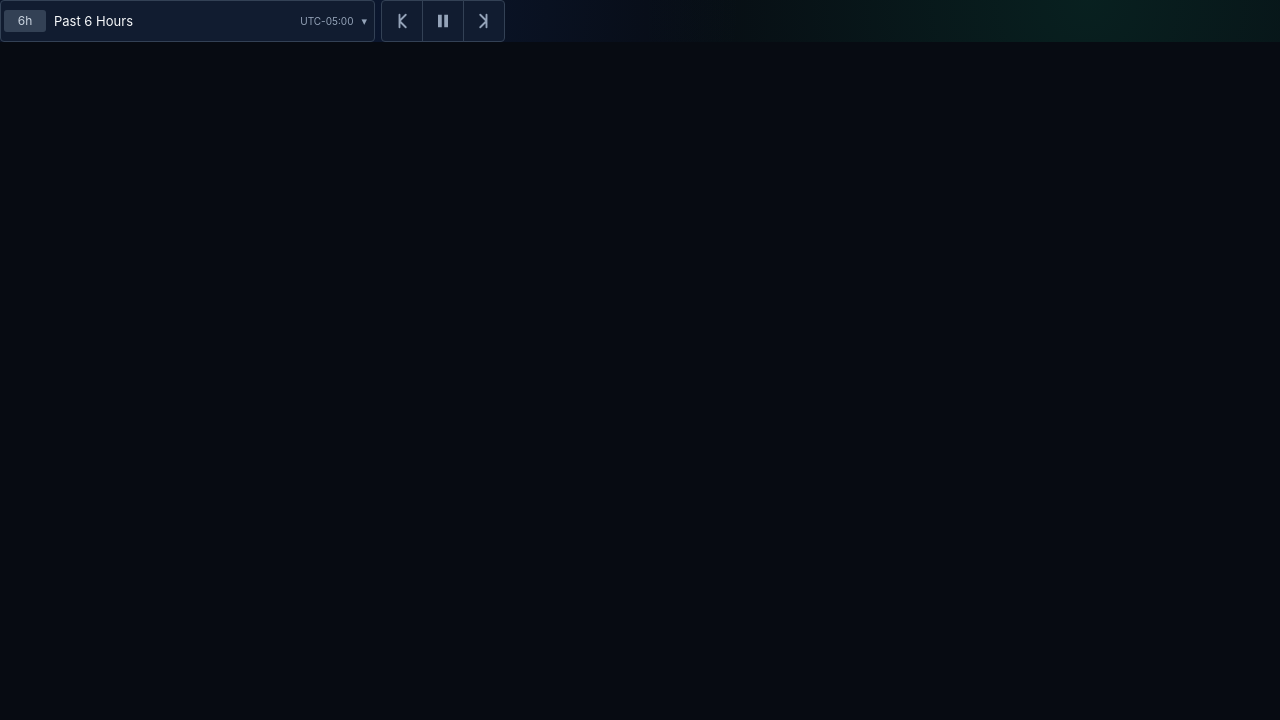
Test: DRUIDS-conformant controlled TimeRangePicker › TR-UI-013 restores input focus on Escape and outside dismissal
The image size is (1280, 720).
Click the dropdown named "Time range picker": (173, 21) [46,1,300,41]
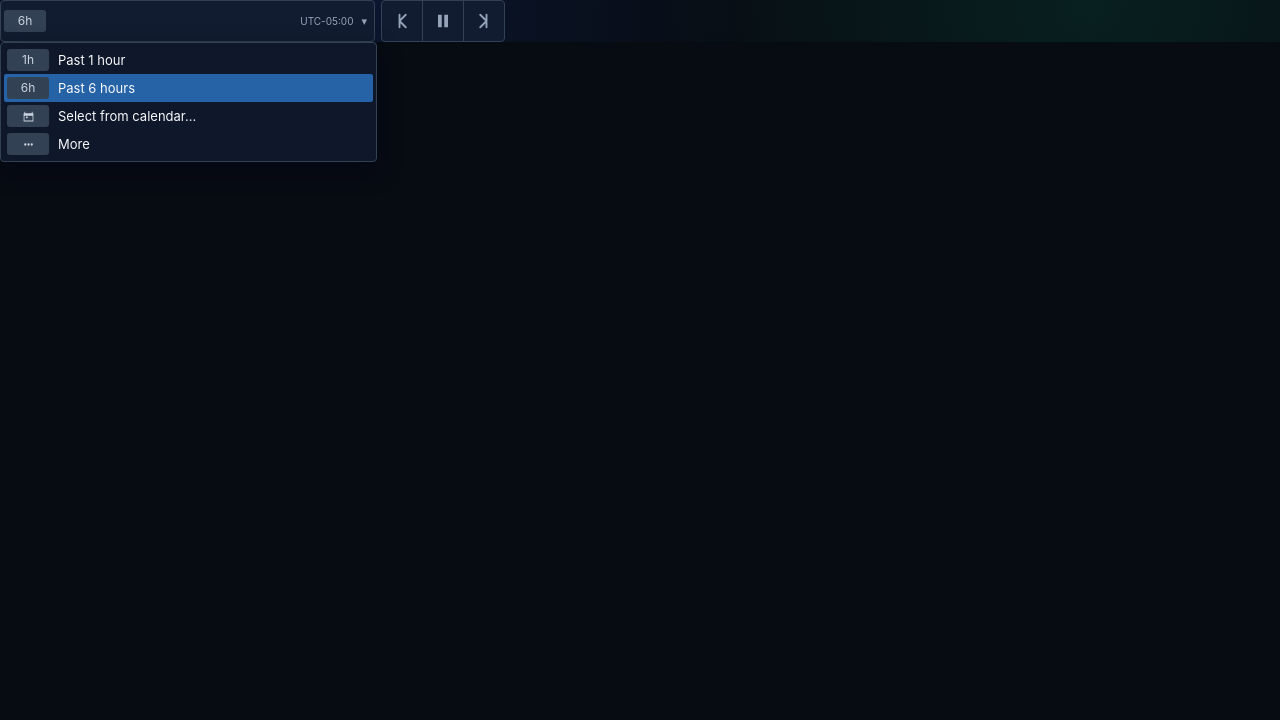
Press Escape in the dropdown named "Time range picker", box [46,1,300,41]
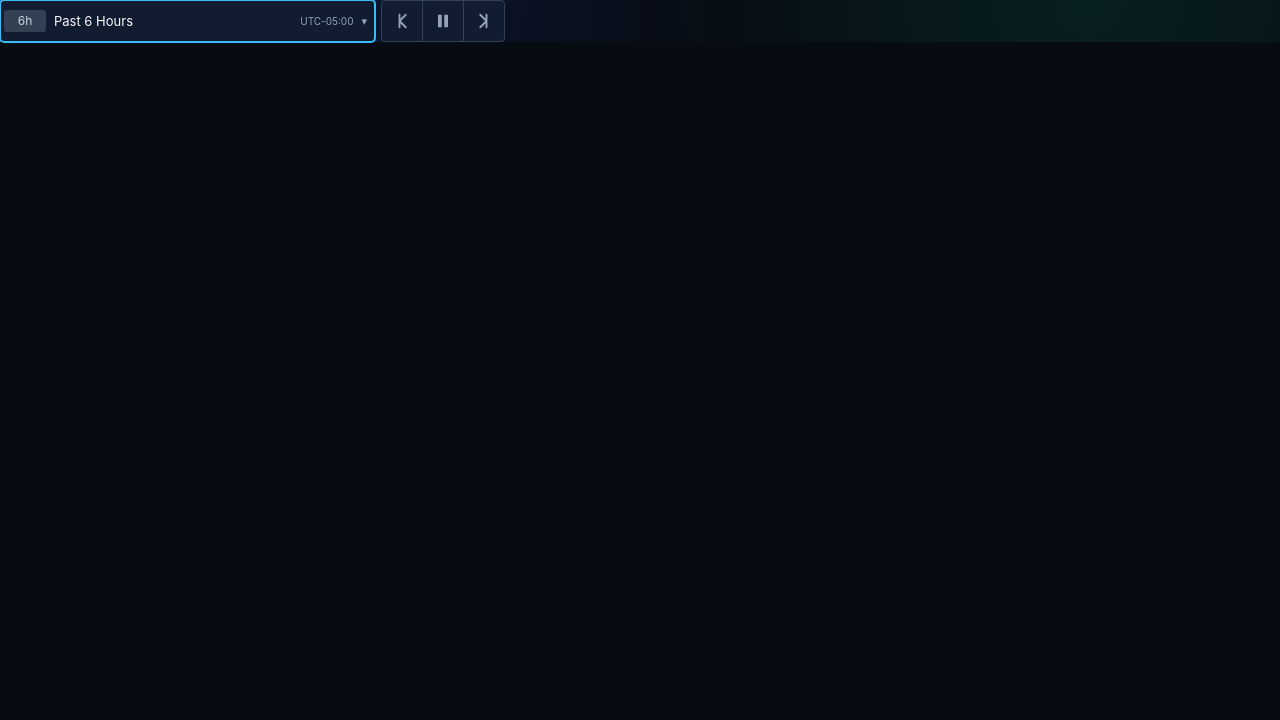
Expected: the dialog is gone
Click the dropdown named "Time range picker": (173, 21) [46,1,300,41]
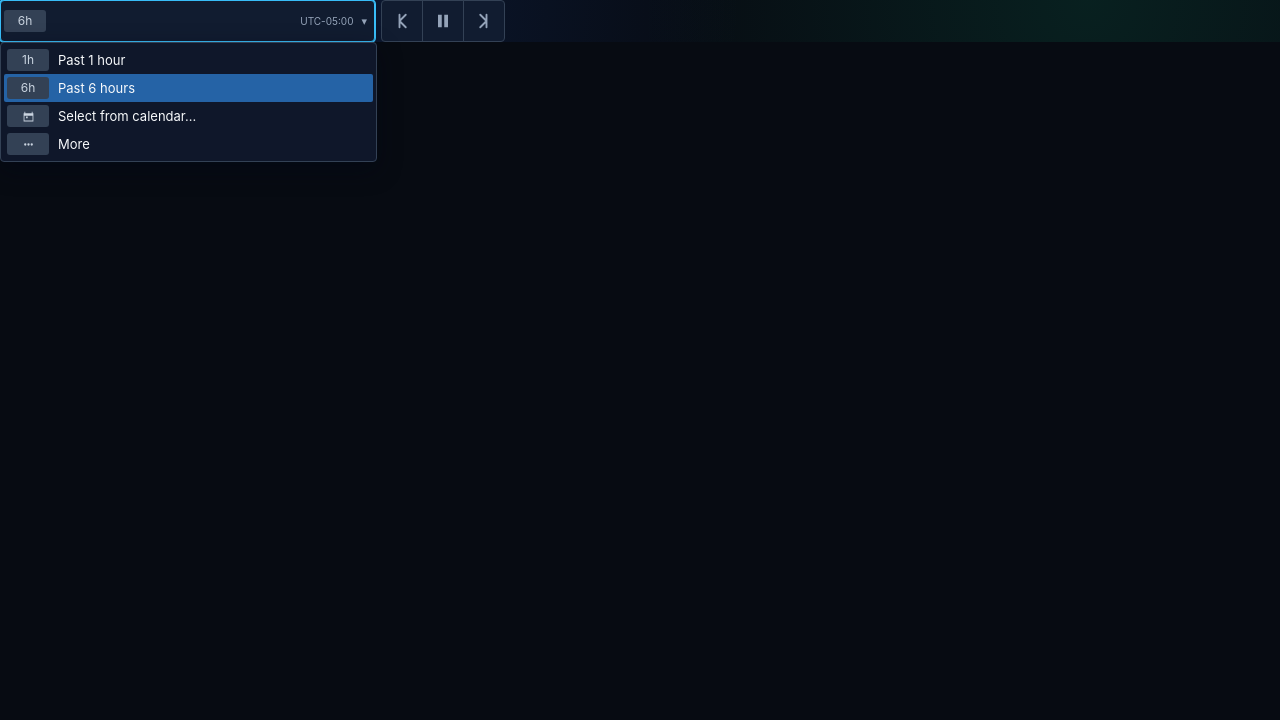
Press the mouse on the element that starts with "UTC-05:00": (640, 21) [0,0,1279,42]
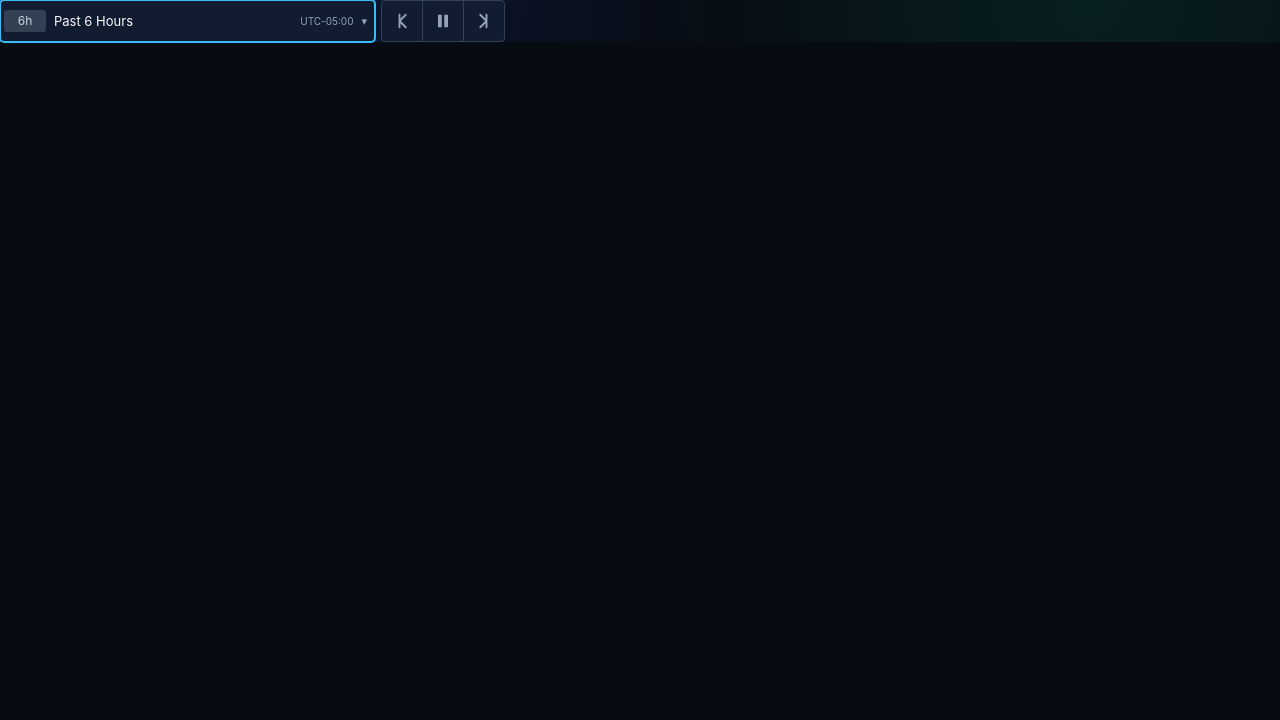
Expected: the dialog is gone
